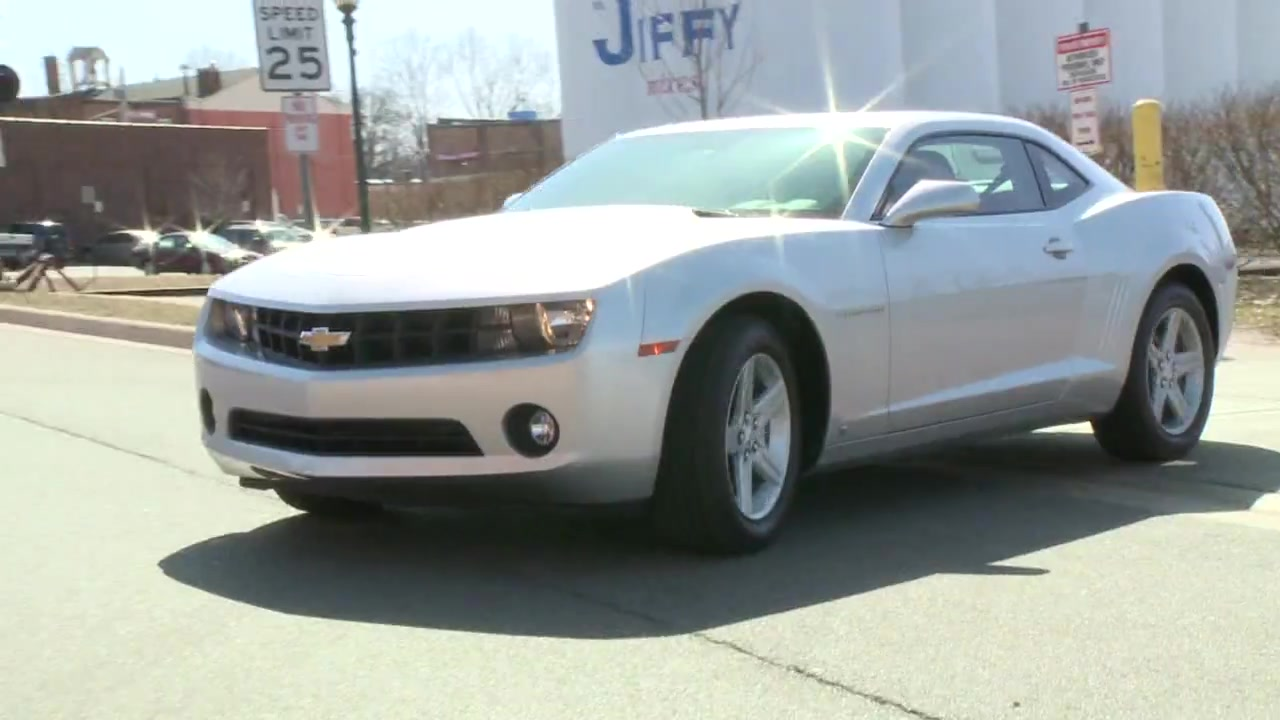car: (186, 106, 1244, 557)
